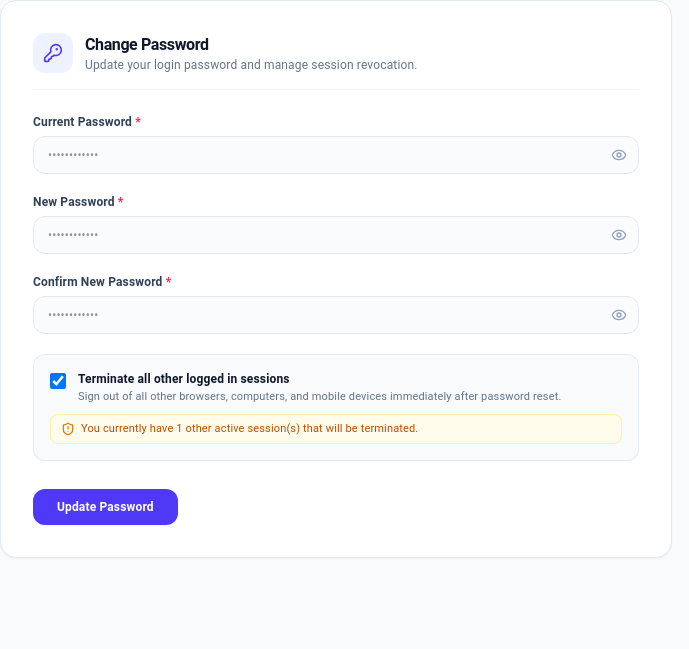
Test: ChangePasswordSection Component › submits password change with terminateOtherSessions flag
The width and height of the screenshot is (689, 649).
In the password field with placeholder "••••••••••••" below "Current Password": (336, 155) [33, 136, 639, 174], type "oldPassword123"
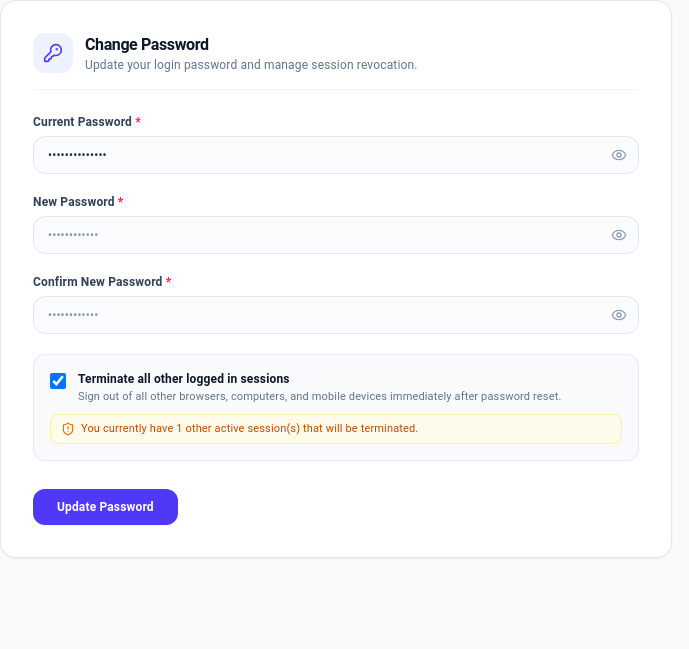
In the 1st password field with placeholder "••••••••••••": (336, 235) [33, 216, 639, 254], type "newPassword123"
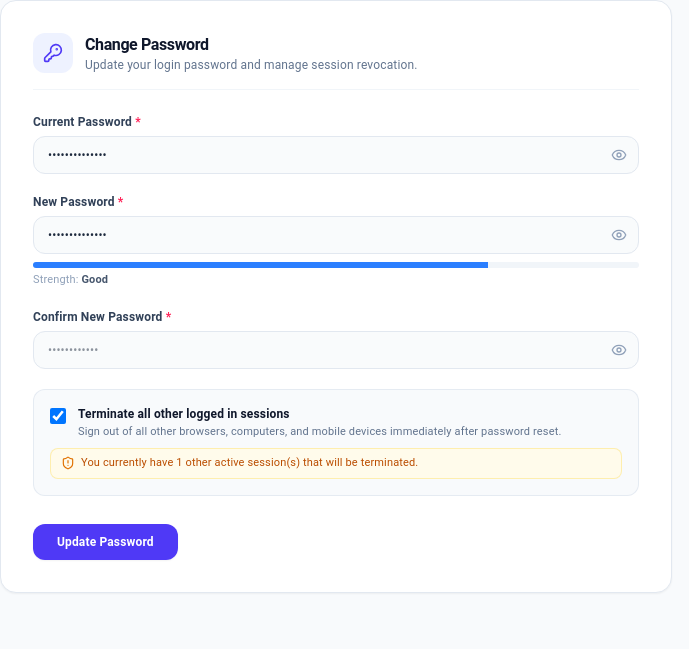
In the password field with placeholder "••••••••••••": (336, 350) [33, 330, 639, 368], type "newPassword123"
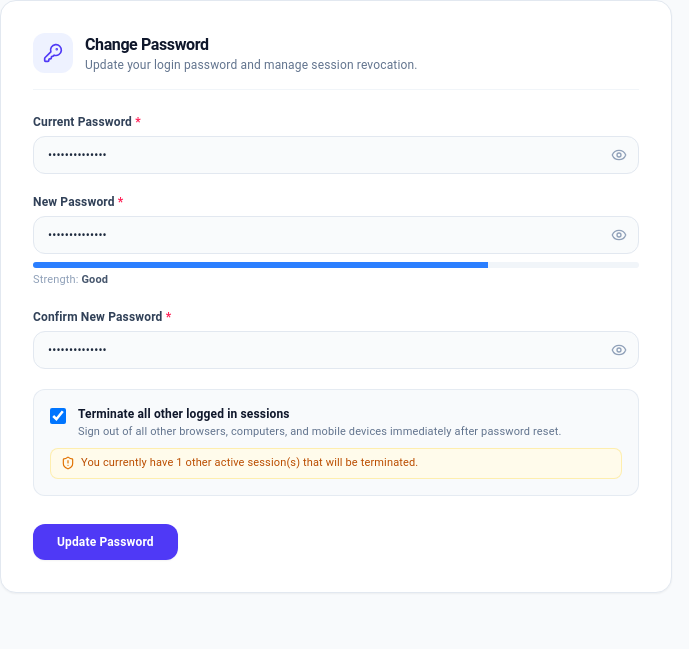
Click the button "Update Password": (105, 542) [33, 524, 178, 560]
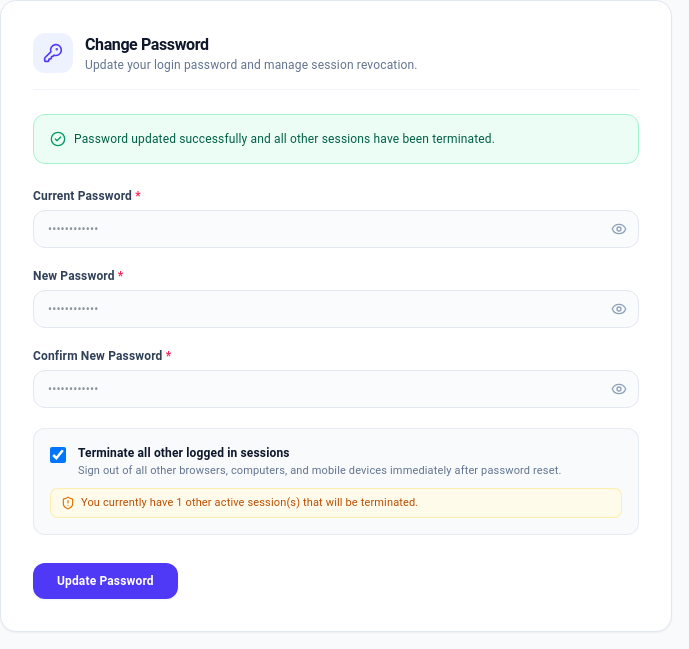
Now the text "Password updated successfully and all other sessions have been terminated." is shown, box [74, 131, 495, 147]
